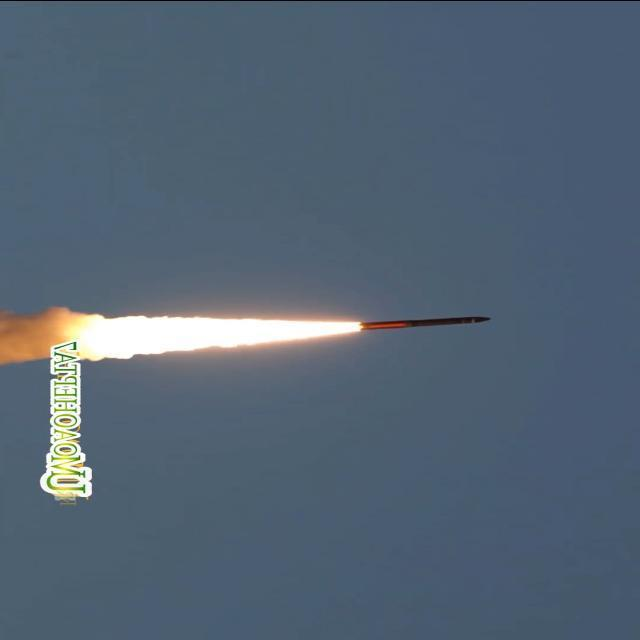missile: (356, 310, 489, 326)
